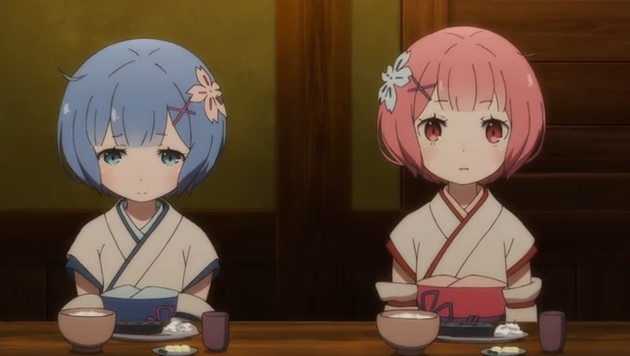rem: (53, 37, 233, 323)
